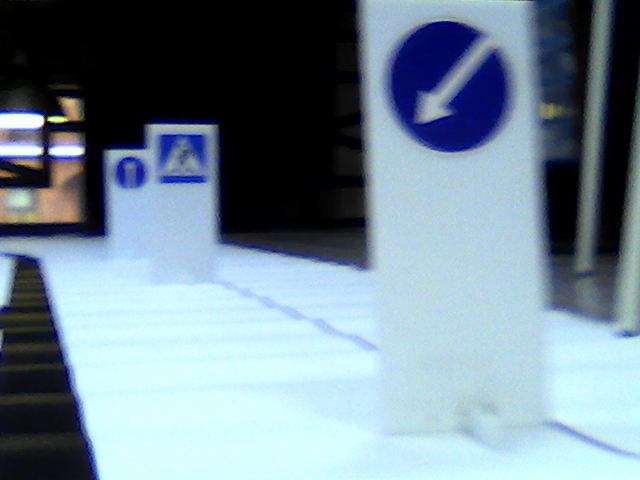forw: (115, 159, 148, 188)
pesh: (159, 135, 210, 183)
prep: (386, 17, 517, 154)
